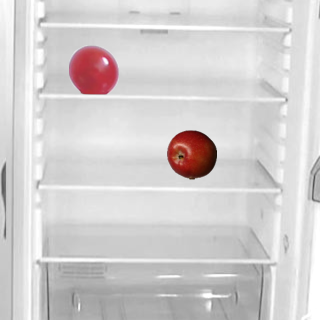Apple Braeburn: (166, 129, 216, 179)
Redcurrant: (68, 44, 118, 94)
